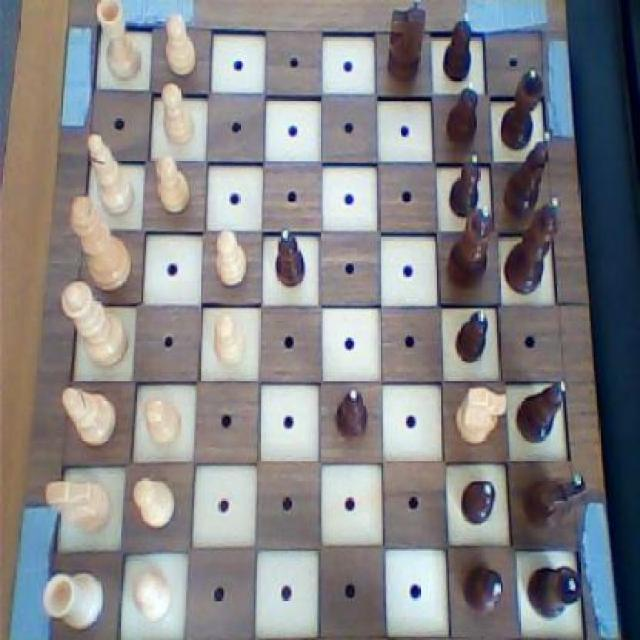bishop: (502, 129, 556, 226), (516, 376, 568, 444)
black-bishop: (502, 196, 563, 300)
black-king: (520, 464, 592, 532), (383, 0, 431, 88)
black-knight: (266, 220, 312, 293), (440, 75, 482, 151), (455, 558, 504, 618), (444, 148, 484, 219), (438, 8, 476, 82), (331, 382, 371, 448), (456, 474, 500, 528), (454, 304, 491, 368)
black-pawn: (442, 206, 494, 299)
black-queen: (495, 63, 547, 159), (526, 557, 585, 621)
black-rook: (57, 382, 120, 452), (86, 131, 136, 219)
white-bishop: (66, 191, 136, 295)
white-king: (40, 474, 115, 542), (449, 380, 509, 453)
white-knight: (150, 150, 194, 222), (157, 75, 198, 150), (130, 561, 176, 627), (131, 471, 177, 535), (211, 224, 252, 292), (160, 9, 199, 80), (141, 392, 187, 450), (211, 303, 250, 370)
white-pawn: (59, 277, 133, 370)
white-queen: (37, 565, 109, 636), (92, 0, 148, 86)
